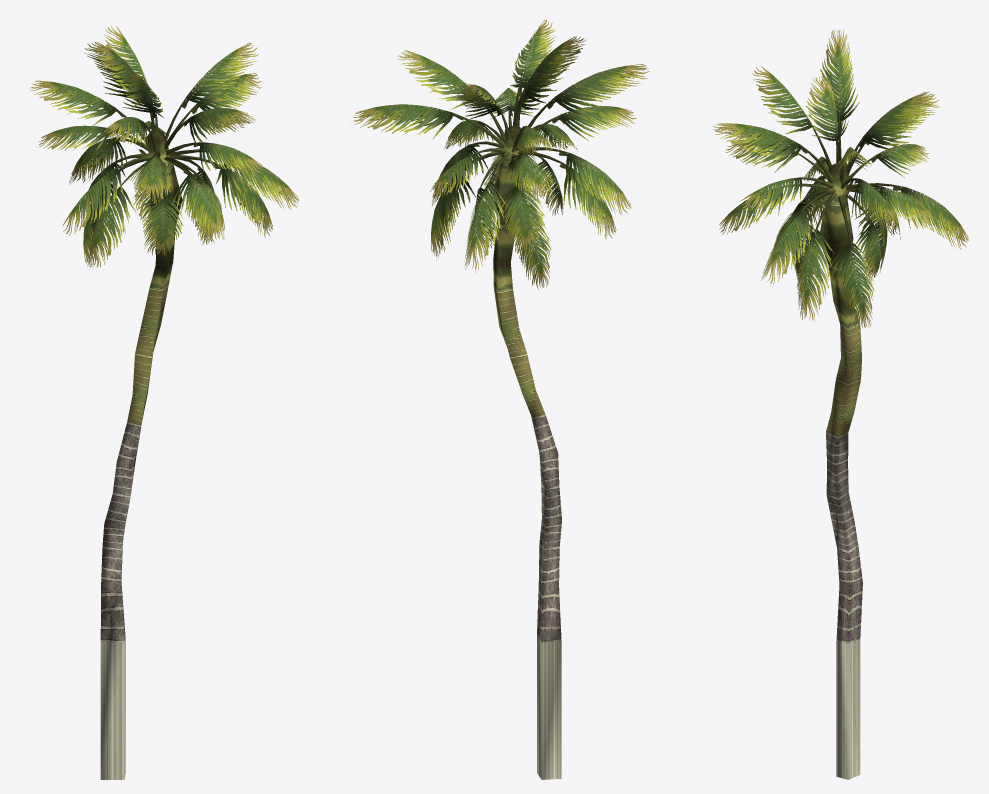
The model's file is palm_royal_0.glb.
3 renders of one model, left to right at view 1: azimuth 30°, elevation 25°; view 2: azimuth 150°, elevation 25°; view 3: azimuth 270°, elevation 25°, orthographic.
Parts seen in each view (by area): view 1: palm_royal_0; view 2: palm_royal_0; view 3: palm_royal_0.
Part boxes in pixels (x1,y1,x2,y2): palm_royal_0: [28, 25, 298, 779]; palm_royal_0: [353, 19, 649, 779]; palm_royal_0: [711, 29, 968, 779].
Size of the model in its own units: 5.03 by 13.81 by 4.71.
1 material, 1 textured.
